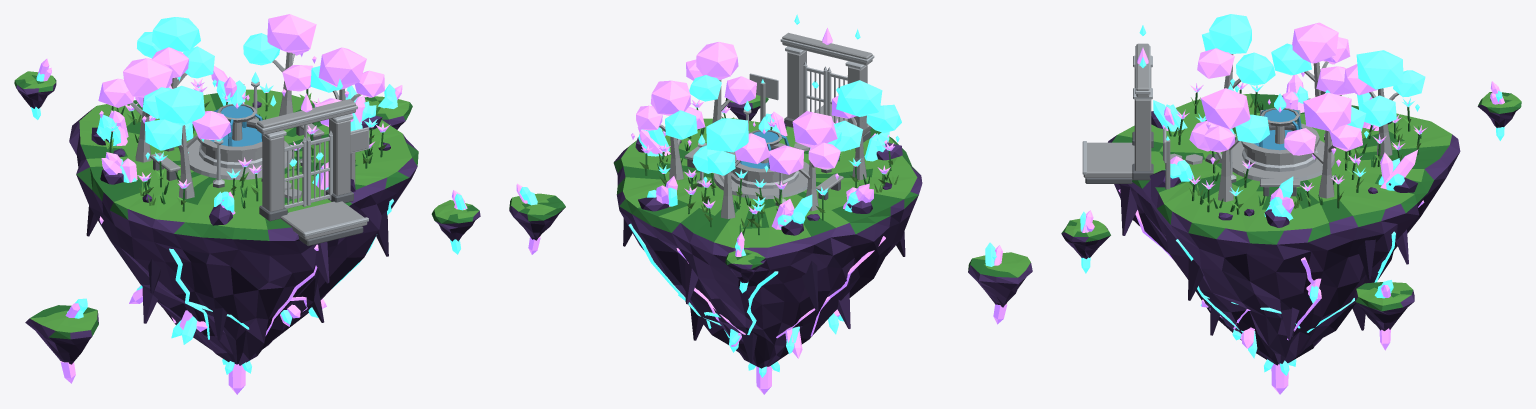
File: crystal-garden-island.glb
The picture shows the model from 3 angles, left to right: view 1: azimuth 30°, elevation 25°; view 2: azimuth 150°, elevation 25°; view 3: azimuth 270°, elevation 25°; orthographic projection. The views are drawn at different scales.
Parts seen in each view (by area): view 1: Island_Body, Crystal_Trees, Gate_Arch, Crystal_Clusters, FloatRock_3, Fountain, Crystal_Flowers, Underside_Crags, Underside_Crystals, FloatRock_4, FloatRock_2, Garden_Rocks (+7 smaller); view 2: Island_Body, Crystal_Trees, Gate_Arch, Crystal_Clusters, FloatRock_3, Crystal_Flowers, Underside_Crags, FloatRock_1, Fountain, Underside_Veins, Garden_Rocks, Underside_Crystals (+5 smaller); view 3: Island_Body, Crystal_Trees, Gate_Arch, Crystal_Clusters, Fountain, Underside_Crags, Crystal_Flowers, FloatRock_1, FloatRock_4, Underside_Crystals, Garden_Rocks, FloatRock_2 (+2 smaller).
Part boxes in pixels (x1,y1,x2,y2): Island_Body: [69, 89, 418, 365]; Crystal_Trees: [98, 14, 384, 198]; Gate_Arch: [255, 79, 368, 246]; Crystal_Clusters: [96, 66, 376, 214]; FloatRock_3: [25, 298, 98, 383]; Fountain: [197, 103, 262, 168]; Crystal_Flowers: [104, 78, 390, 211]; Underside_Crags: [86, 206, 388, 340]; Underside_Crystals: [129, 285, 326, 394]; FloatRock_4: [431, 190, 480, 254]; FloatRock_2: [14, 58, 56, 119]; Garden_Rocks: [91, 84, 390, 225]; Island_Body: [613, 118, 922, 368]; Crystal_Trees: [631, 42, 901, 218]; Gate_Arch: [780, 14, 874, 142]; Crystal_Clusters: [638, 111, 889, 229]; FloatRock_3: [968, 242, 1032, 324]; Crystal_Flowers: [639, 99, 897, 235]; Underside_Crags: [623, 218, 905, 362]; FloatRock_1: [509, 183, 565, 254]; Fountain: [730, 129, 798, 188]; Underside_Veins: [628, 223, 885, 338]; Garden_Rocks: [635, 121, 902, 235]; Underside_Crystals: [729, 309, 843, 394]; Island_Body: [1108, 93, 1460, 365]; Crystal_Trees: [1189, 14, 1425, 201]; Gate_Arch: [1082, 25, 1153, 183]; Crystal_Clusters: [1153, 74, 1418, 220]; Fountain: [1241, 108, 1319, 171]; Underside_Crags: [1120, 184, 1408, 339]; Crystal_Flowers: [1176, 83, 1427, 214]; FloatRock_1: [1354, 280, 1414, 350]; FloatRock_4: [1061, 210, 1110, 273]; Underside_Crystals: [1200, 278, 1321, 394]; Garden_Rocks: [1149, 99, 1417, 227]; FloatRock_2: [1477, 81, 1521, 140].
Size of the model in its own units: 45.45 by 33 by 38.86.
